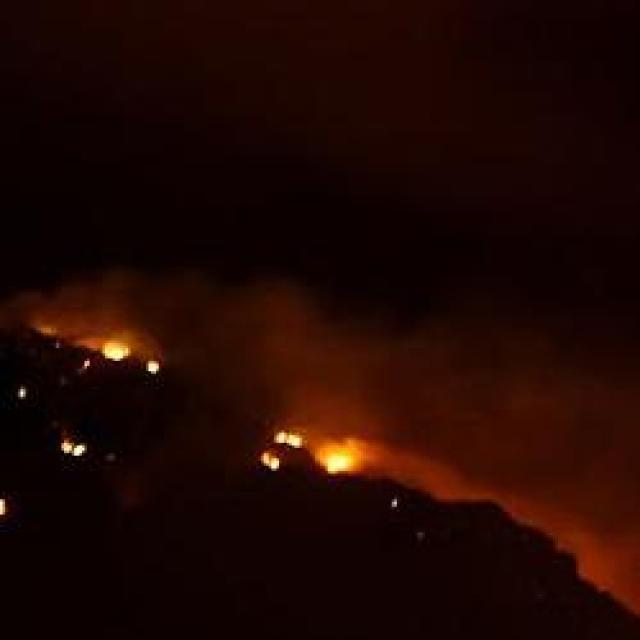Fire: (323, 446, 348, 476), (280, 429, 309, 451), (62, 438, 90, 457), (108, 338, 125, 364), (258, 451, 280, 471)
